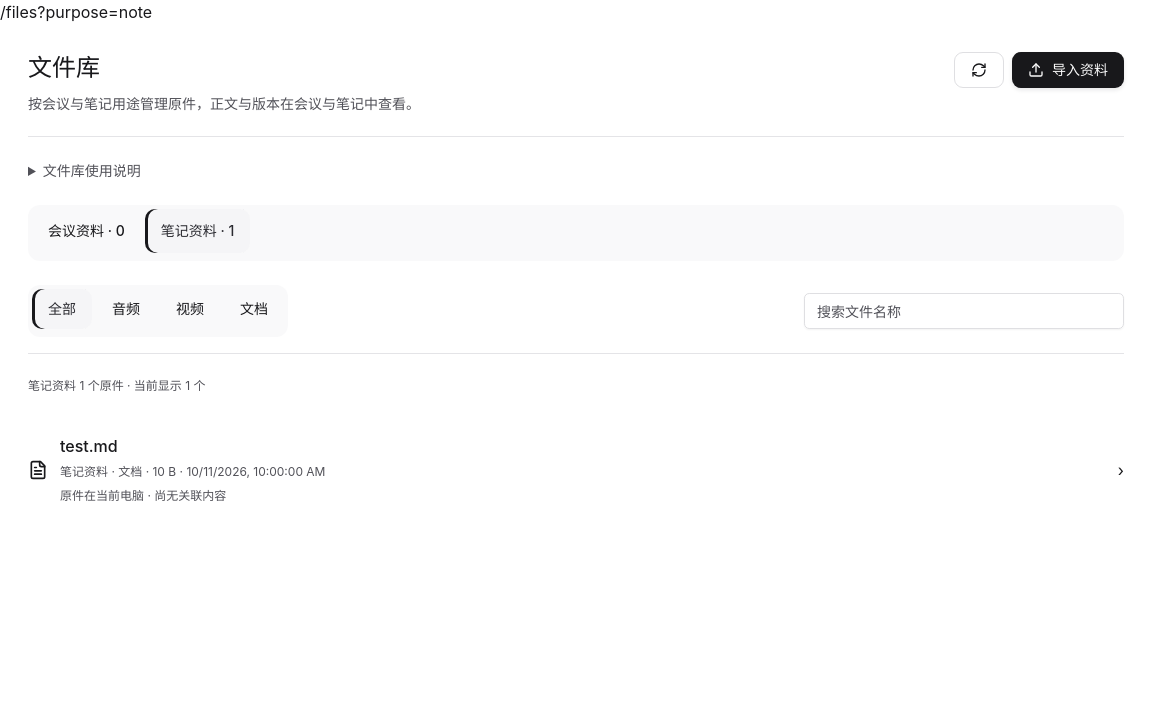
Test: keeps the same unavailable original after a refresh removes it during confirmation
The width and height of the screenshot is (1152, 720).
Check: the button "test.md" is shown, box [28,418,1124,522]
Click the button named "重新读取文件库" at [979, 70], box [954,52,1004,88]
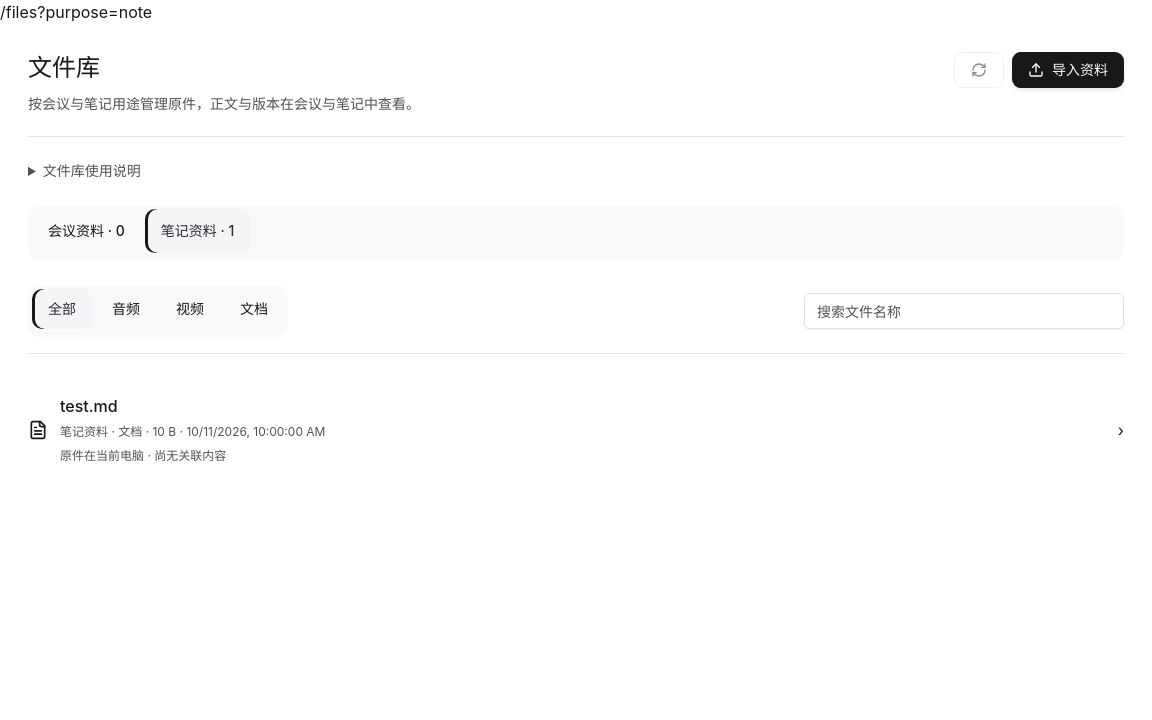
Click the button "test.md" at [89, 406], box [28,378,1124,482]
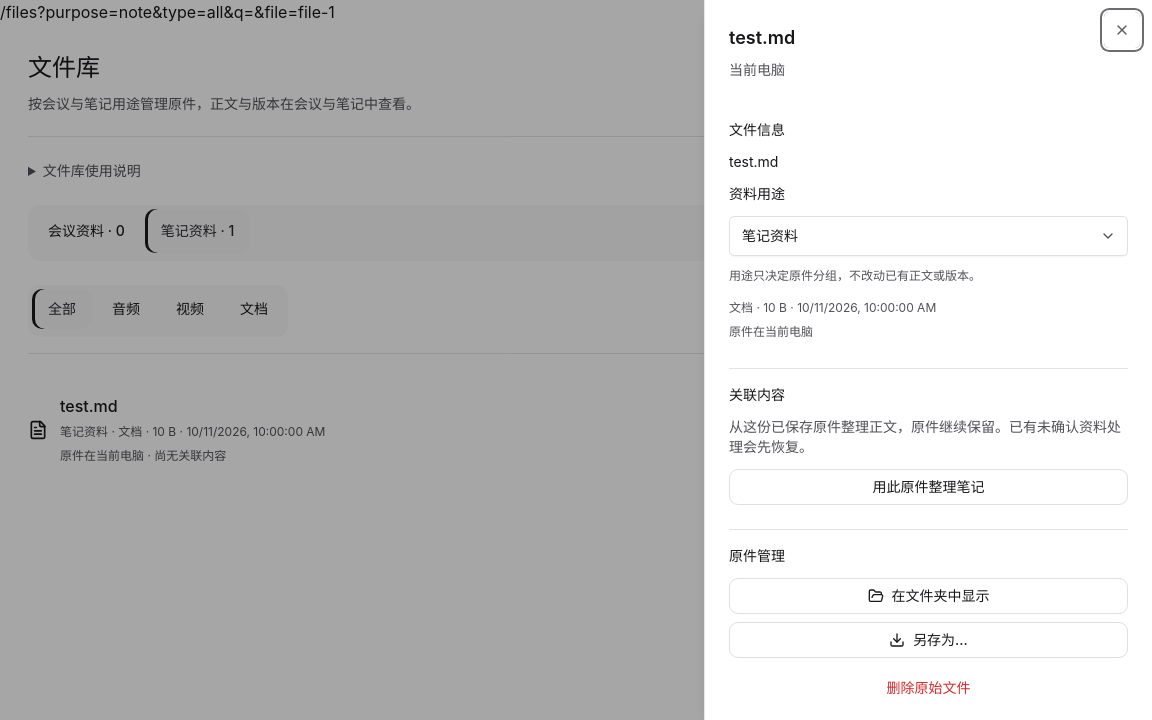
Click the button "删除原始文件" at [928, 688], box [729,670,1128,706]
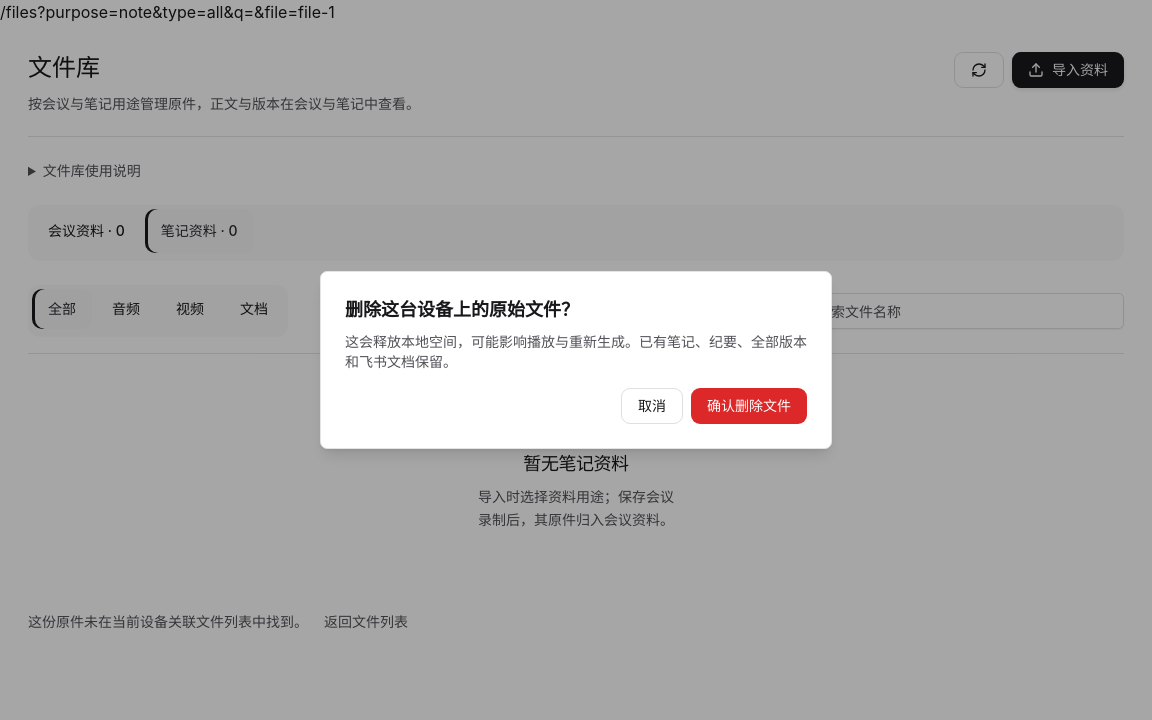
Check: the button "取消" is enabled
Click the button "取消" at [652, 406], box [621,388,683,424]
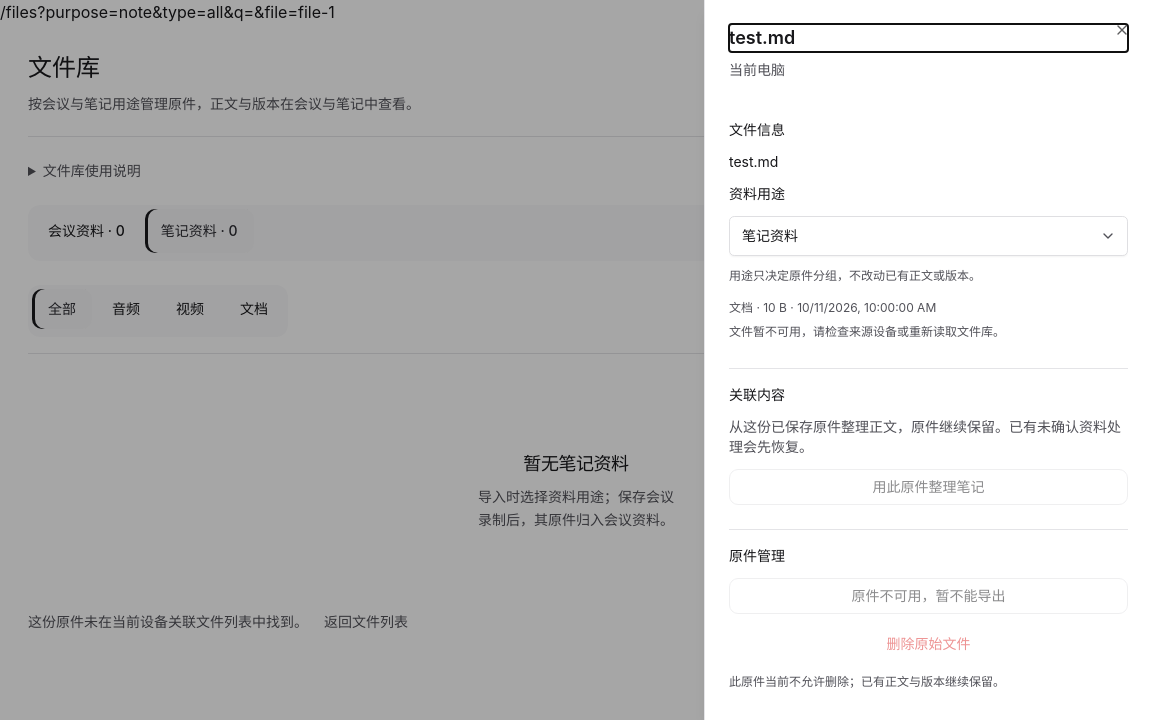
Check: the heading "test.md" is shown, box [729,27,795,48]
Check: the button "原件不可用，暂不能导出" is disabled, box [729,578,1128,614]
Check: the button "删除原始文件" is disabled, box [729,626,1128,662]
